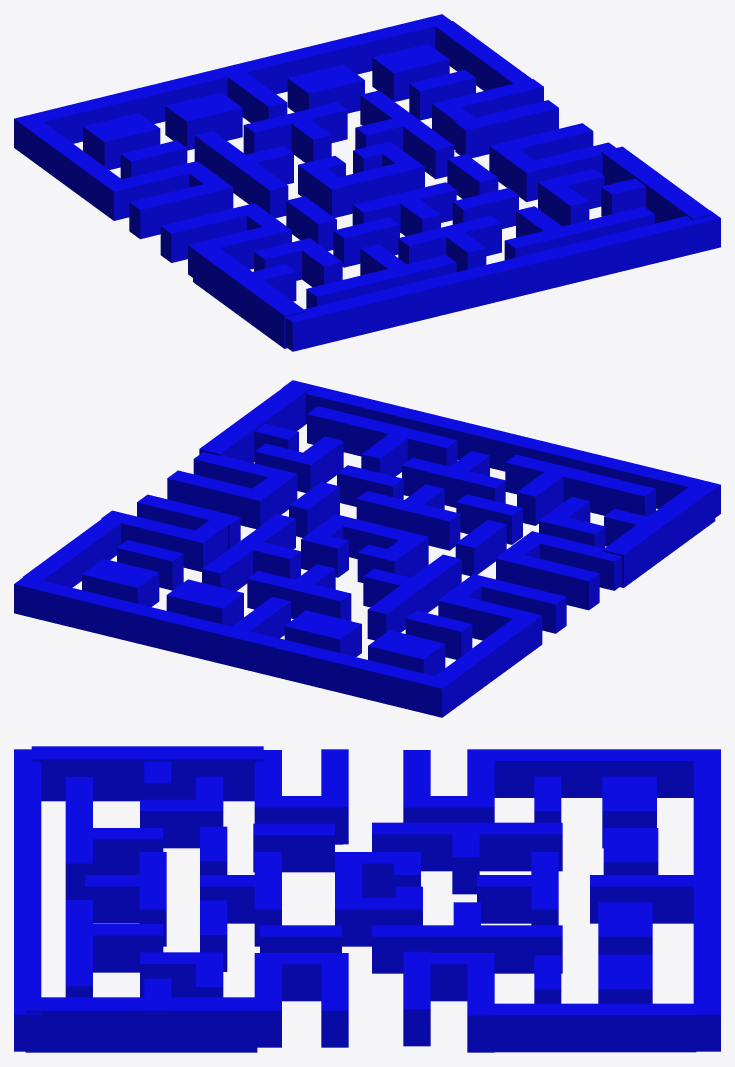
The model's file is SM_Level0.FBX.
3 views of the same model, one above another, from view 1: azimuth 30°, elevation 25°; view 2: azimuth 150°, elevation 25°; view 3: azimuth 270°, elevation 25° (orthographic). The views are drawn at different scales.
Parts seen in each view (by area): view 1: SM_Level0; view 2: SM_Level0; view 3: SM_Level0.
Part boxes in pixels (box(x1,y1,x2,y2)): SM_Level0: box(14, 14, 720, 351); SM_Level0: box(14, 380, 720, 717); SM_Level0: box(14, 746, 720, 1052).
Bounding box in the file's own units: 4633 × 5185 × 340.
